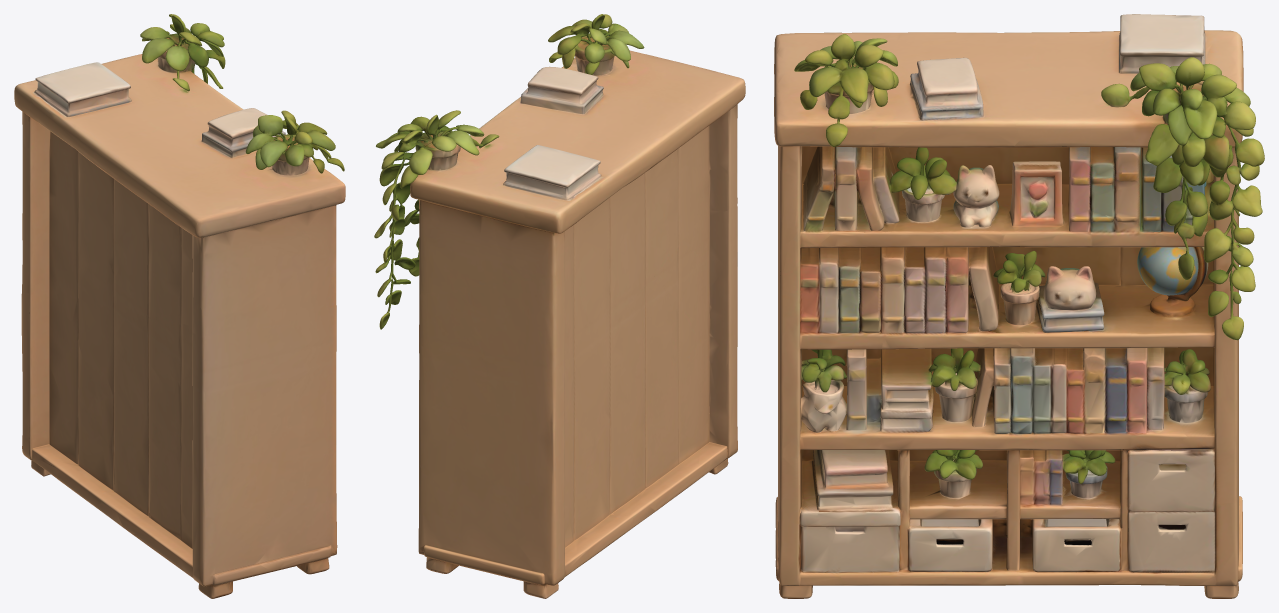
Rendered from bookcase-2e481ea60d02.glb.
The picture shows the model from 3 angles, left to right: view 1: azimuth 30°, elevation 25°; view 2: azimuth 150°, elevation 25°; view 3: azimuth 270°, elevation 25°; orthographic projection. The views are drawn at different scales.
Visible parts, largest first — view 1: tripo_node_ccc03a99-2153-45b6-8ec8-ca7ce4268753; view 2: tripo_node_ccc03a99-2153-45b6-8ec8-ca7ce4268753; view 3: tripo_node_ccc03a99-2153-45b6-8ec8-ca7ce4268753.
Boxes of the visible parts, x1,y1,x2,y2 form: tripo_node_ccc03a99-2153-45b6-8ec8-ca7ce4268753: (14, 14, 345, 598); tripo_node_ccc03a99-2153-45b6-8ec8-ca7ce4268753: (374, 14, 745, 598); tripo_node_ccc03a99-2153-45b6-8ec8-ca7ce4268753: (774, 14, 1264, 598).
Size of the model in its own units: 0.467 by 1 by 0.8011.
Materials: 1 (1 with a texture image).
